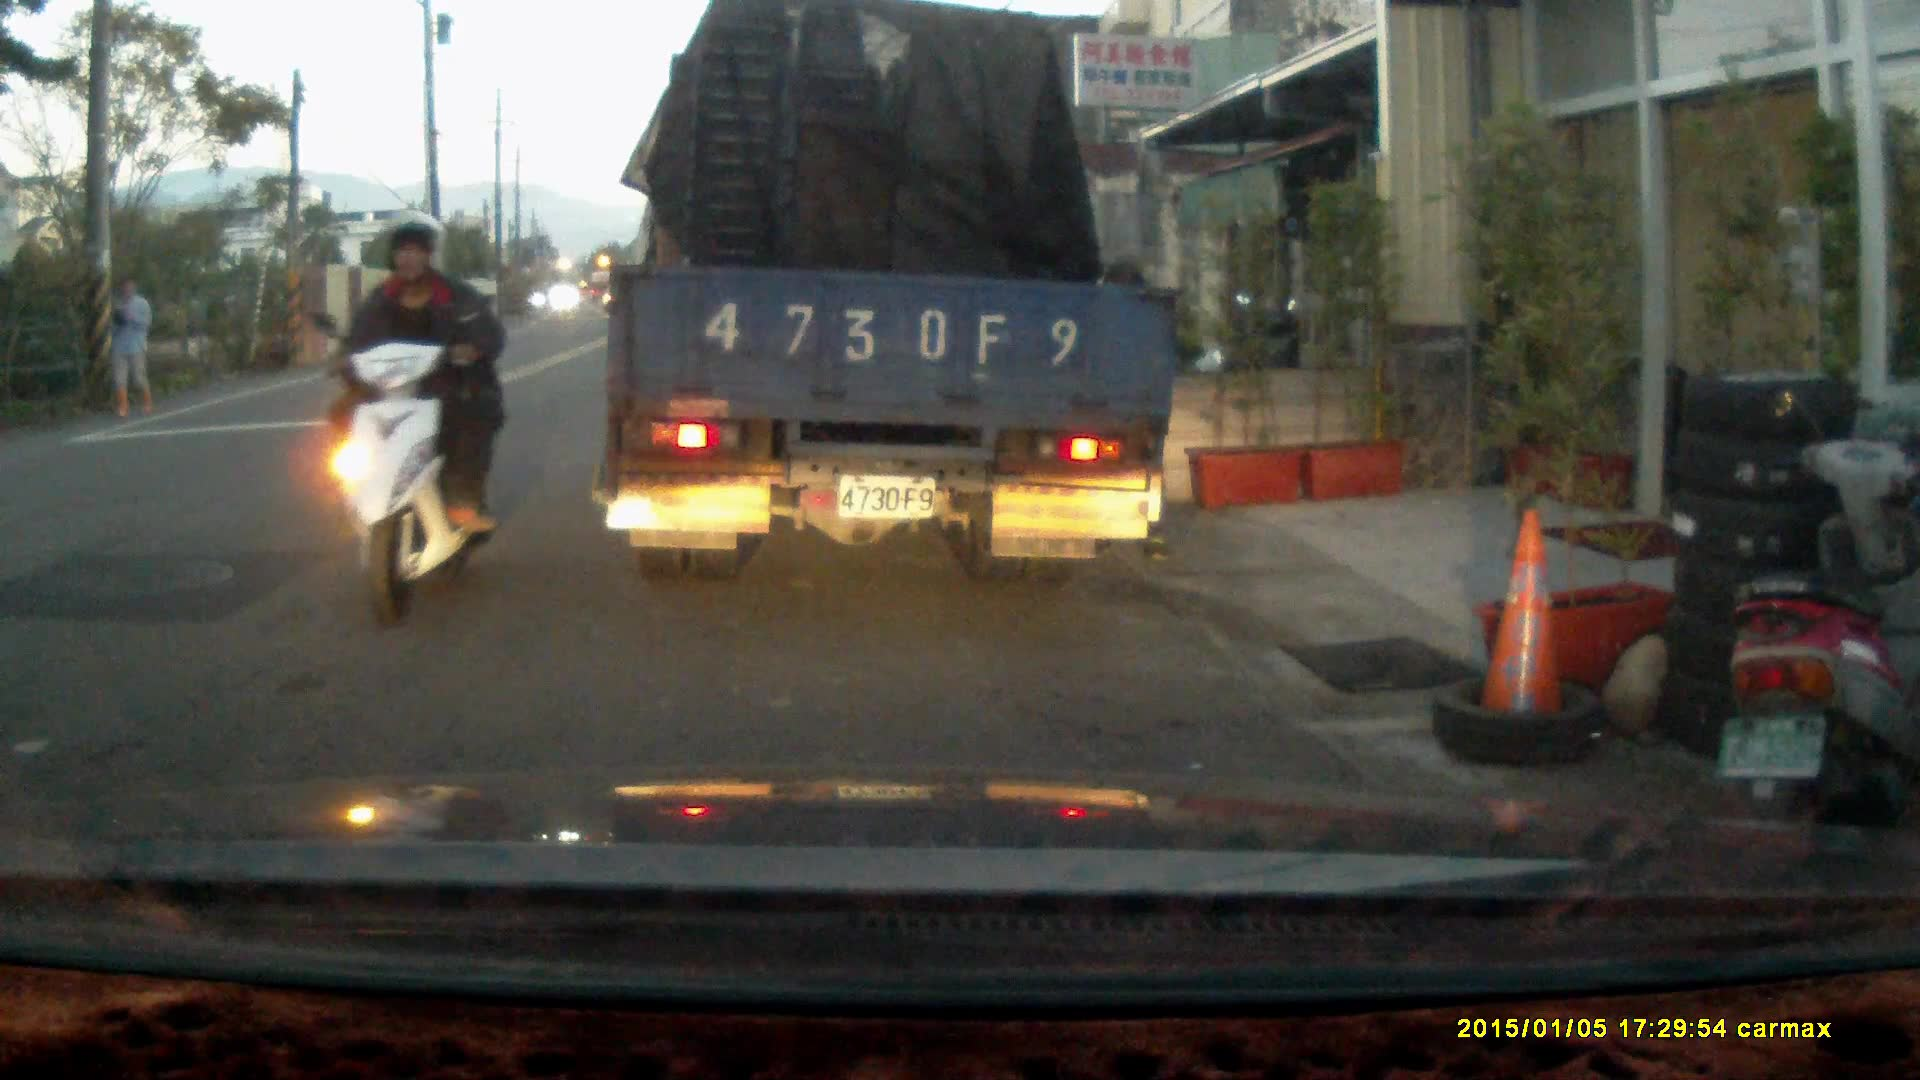pedestrian: (104, 271, 156, 420)
rider: (299, 207, 510, 634)
vehicle: (601, 23, 1188, 572)
